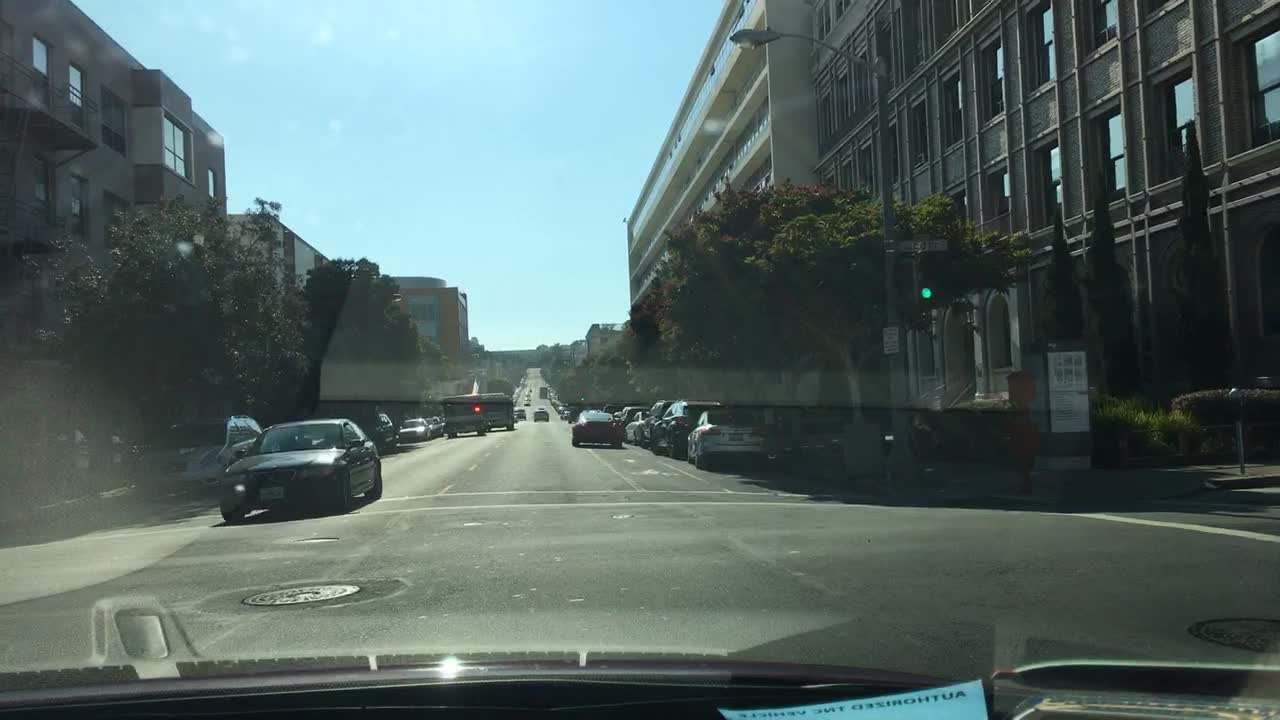car: (220, 419, 384, 520), (136, 414, 260, 497), (689, 400, 767, 468), (654, 399, 722, 456), (571, 406, 622, 449), (358, 411, 397, 463), (642, 396, 673, 450), (623, 403, 646, 444), (398, 417, 427, 441), (426, 415, 443, 438), (532, 408, 550, 423), (534, 407, 550, 421), (514, 403, 527, 417), (557, 405, 568, 421), (613, 408, 625, 421), (566, 412, 581, 421), (526, 381, 532, 392), (522, 390, 531, 397), (549, 400, 555, 410), (553, 397, 559, 405), (526, 398, 530, 407)
traffic light: (919, 285, 935, 297)
traffic sign: (896, 240, 949, 250), (880, 328, 898, 352)
truck: (444, 396, 483, 437), (485, 394, 514, 427), (538, 387, 550, 399)
